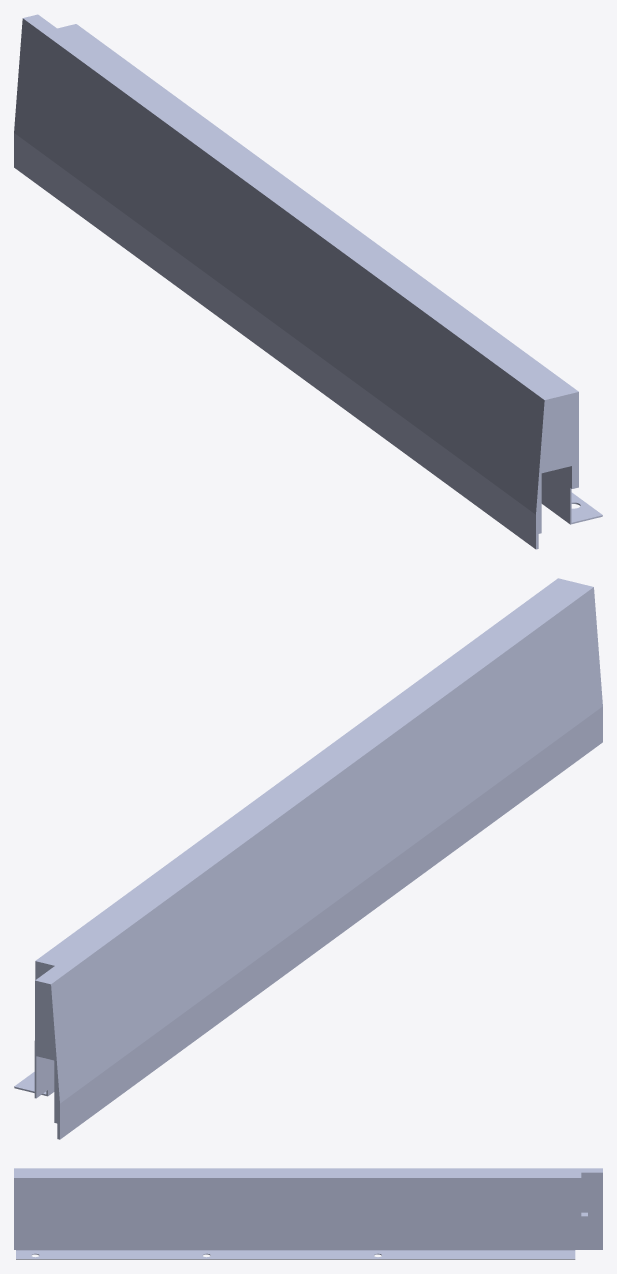
The model's file is mv-kava-N450-p.glb.
The picture shows the model from 3 angles, top to bottom: view 1: azimuth 30°, elevation 25°; view 2: azimuth 150°, elevation 25°; view 3: azimuth 270°, elevation 25°; orthographic projection. The views are drawn at different scales.
Visible parts, largest first — view 1: 47712565; view 2: 47712565; view 3: 47712565.
Part boxes in pixels (left/top/right/bottom): 47712565: left=14, top=14, right=602, bottom=549; 47712565: left=14, top=578, right=602, bottom=1139; 47712565: left=14, top=1168, right=602, bottom=1259.
Size of the model in its own units: 0.0335 by 0.0685 by 0.4402.
